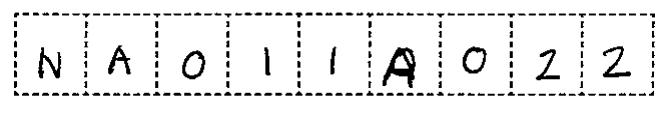0: (455, 40, 492, 80), (176, 45, 212, 84)
1: (316, 43, 348, 80), (253, 44, 282, 83)
2: (594, 40, 638, 84), (529, 45, 563, 87)
A: (380, 42, 420, 92), (99, 39, 138, 82)
N: (31, 41, 67, 85)
